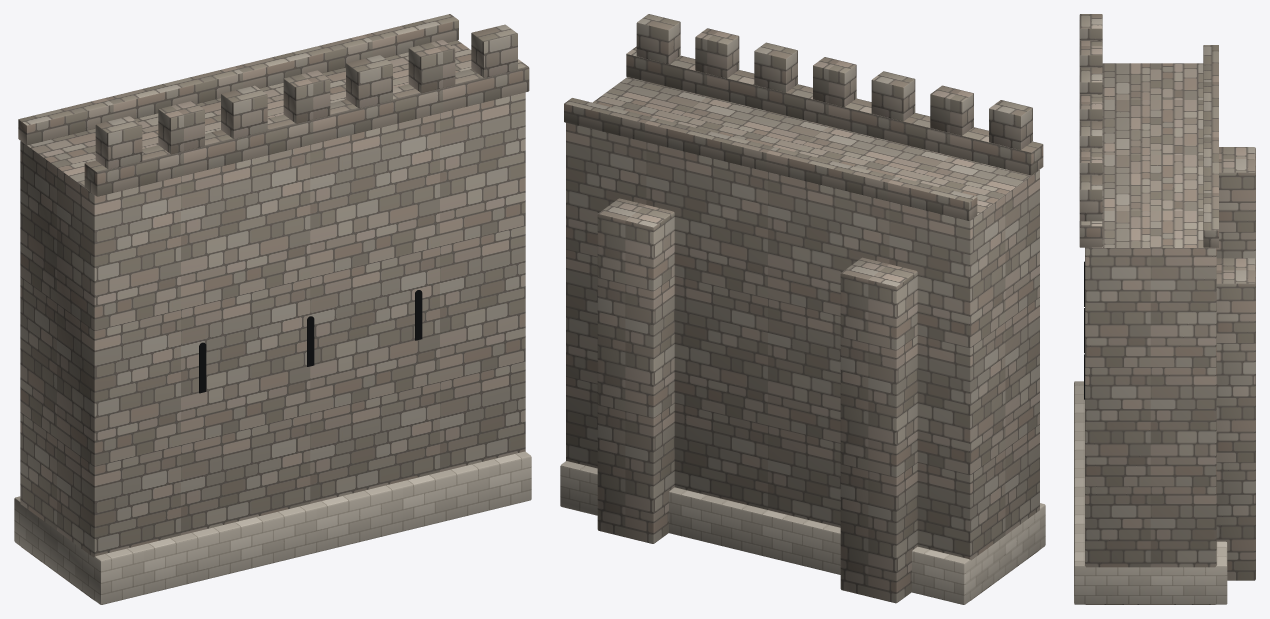
The model's file is curtain-wall.glb.
3 renders of one model, left to right at view 1: azimuth 30°, elevation 25°; view 2: azimuth 150°, elevation 25°; view 3: azimuth 270°, elevation 25°, orthographic. The views are drawn at different scales.
Parts seen in each view (by area): view 1: Curtain_Wall; view 2: Curtain_Wall; view 3: Curtain_Wall.
Boxes of the visible parts, bbox=[...] form: Curtain_Wall: bbox=[14, 14, 531, 604]; Curtain_Wall: bbox=[560, 14, 1045, 604]; Curtain_Wall: bbox=[1074, 14, 1255, 604].
Size of the model in its own units: 10.02 by 10.35 by 4.15.
3 materials, 2 textured.
